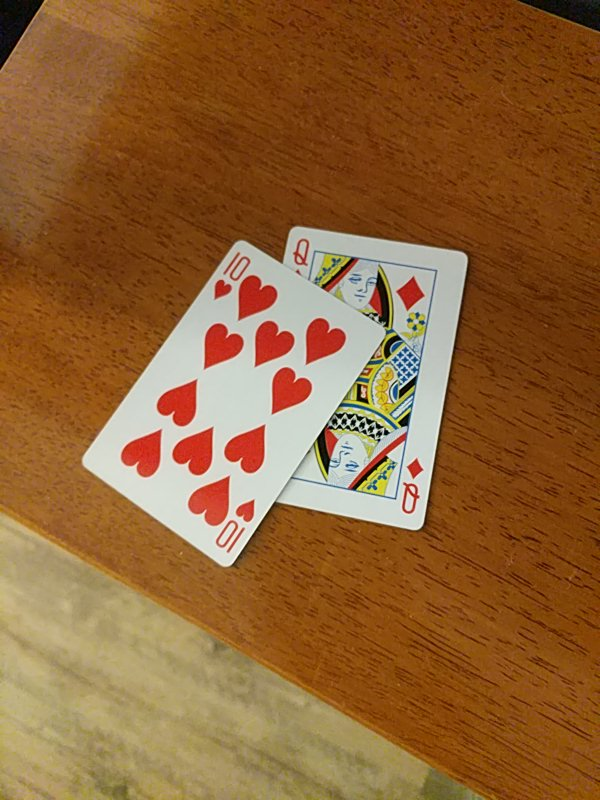Diamonds: (249, 228, 470, 529)
Hearts: (82, 240, 381, 571)
